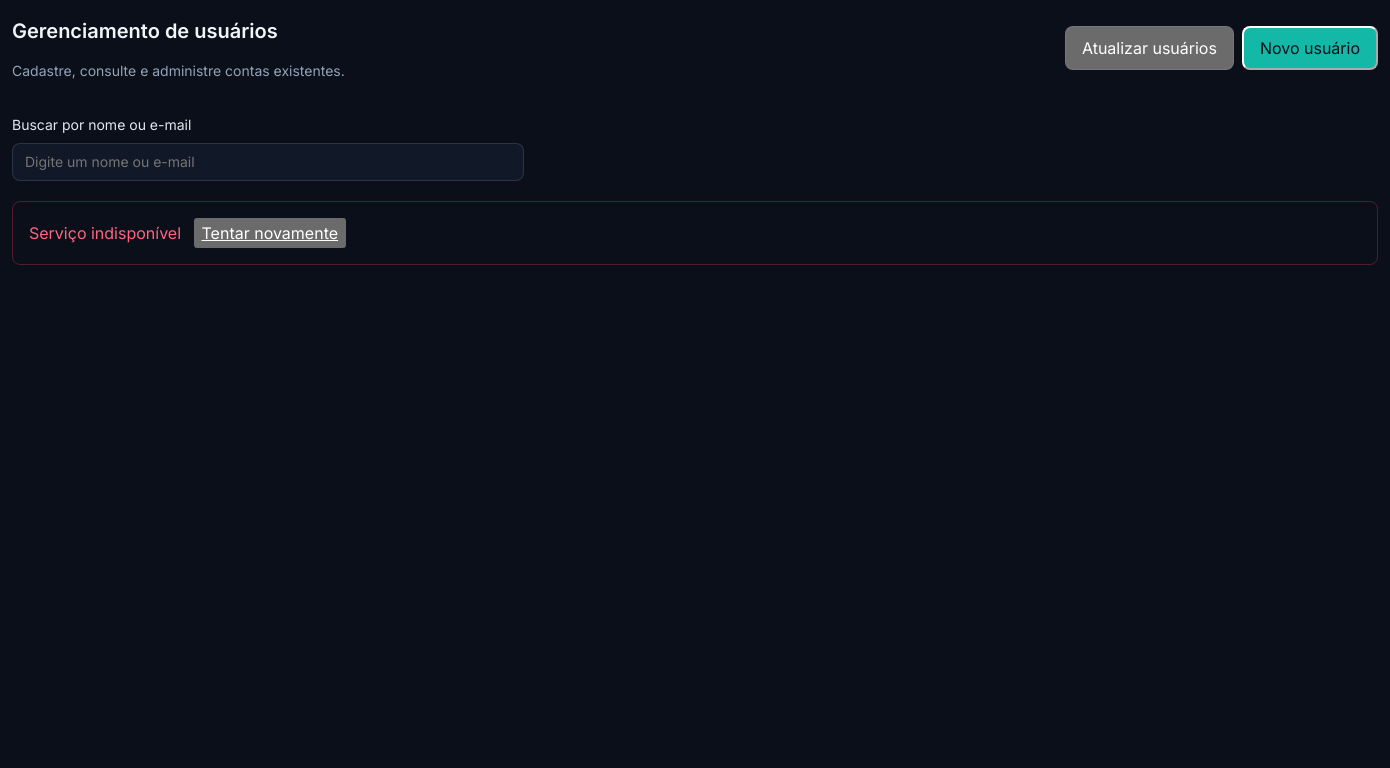
Test: FE-08: apresenta falha HTTP e permite recarregar
Expected: the message shows "Serviço indisponível", [29, 223, 181, 243]
Click the button "Tentar novamente": click(270, 233) [194, 218, 346, 248]
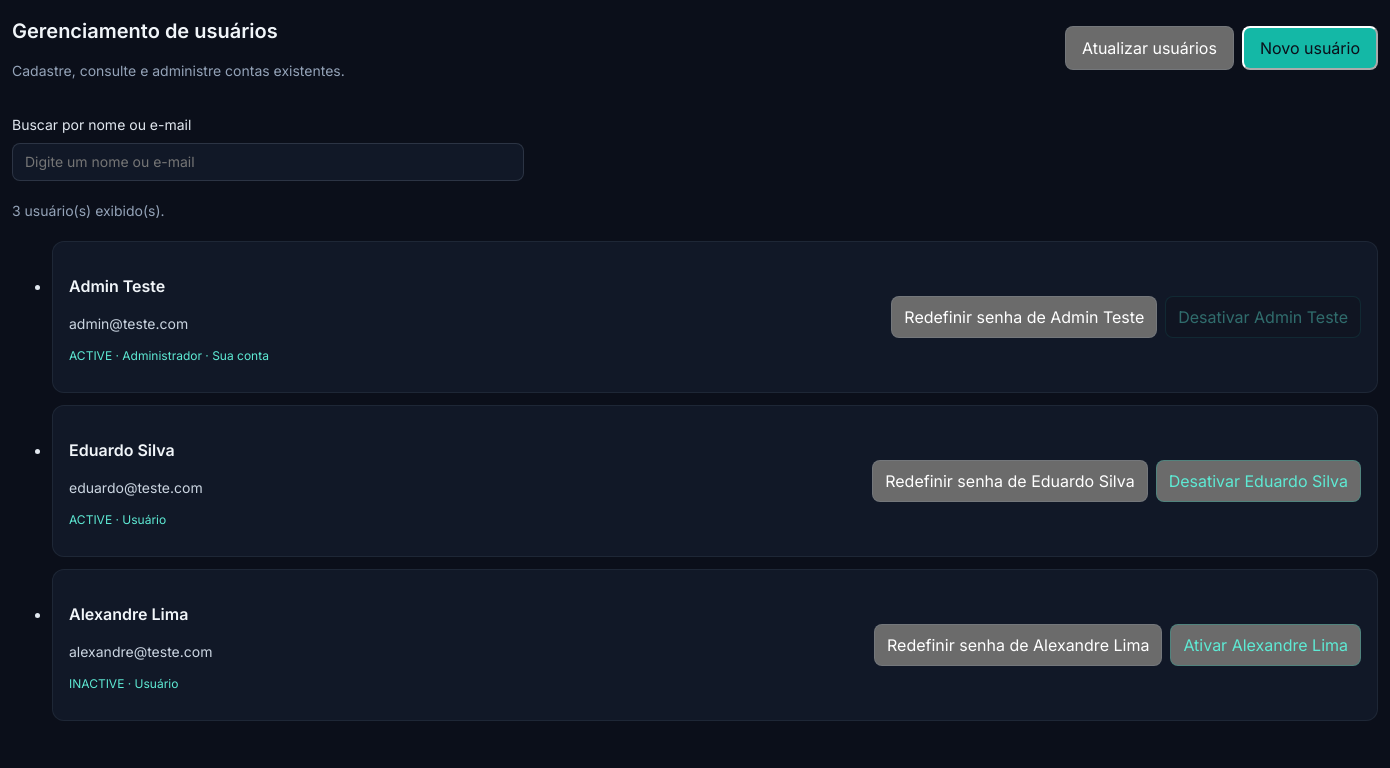
Result: the text "Eduardo Silva" is shown at [69, 440, 175, 460]
